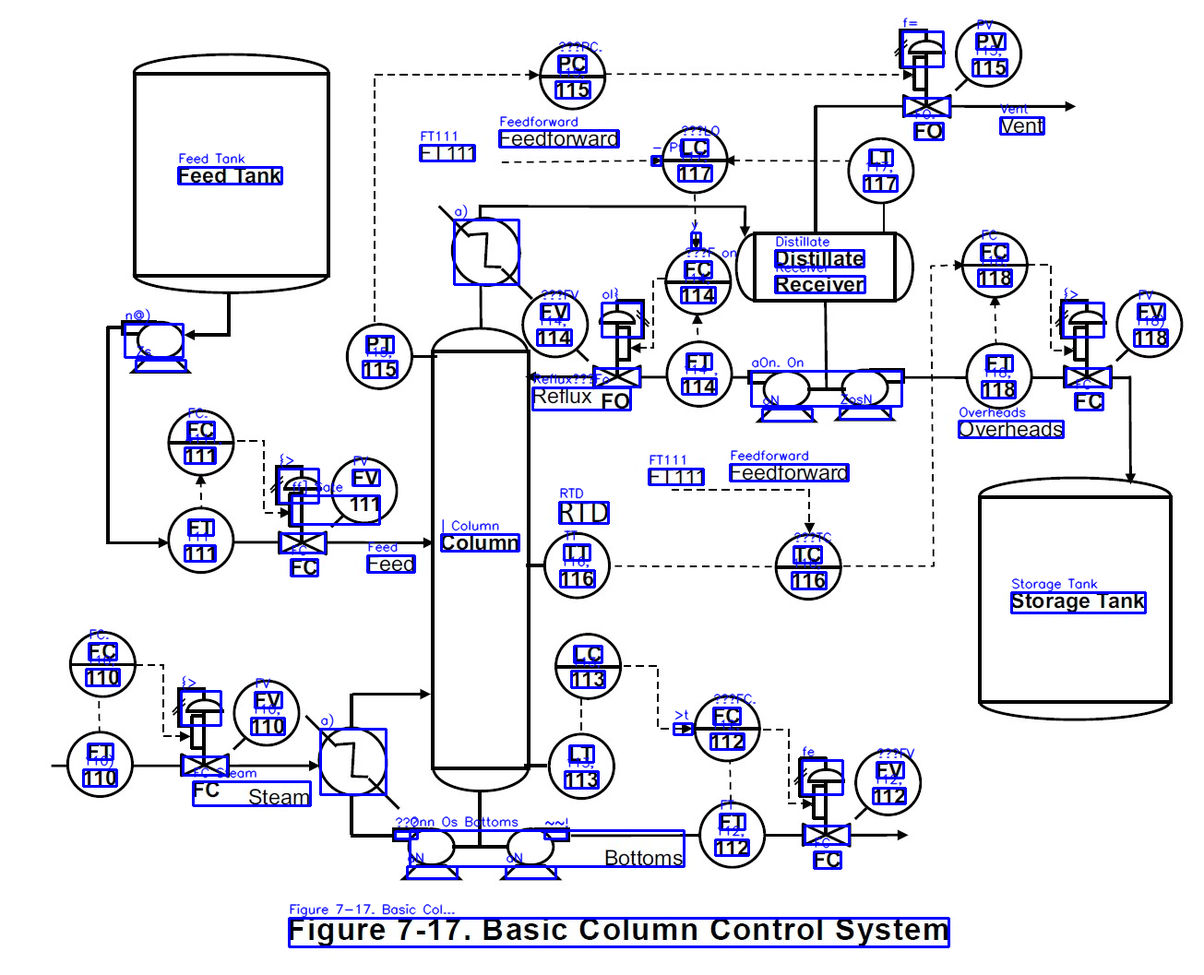Bomba: (828, 362, 912, 430), (492, 820, 576, 888), (115, 315, 199, 379), (386, 822, 468, 887), (741, 363, 825, 426)
Instrumento: (692, 796, 773, 876), (769, 529, 847, 604), (161, 504, 238, 577), (65, 626, 138, 702), (658, 244, 736, 315), (62, 727, 136, 801), (963, 339, 1036, 413), (341, 320, 416, 392), (540, 530, 613, 603), (657, 124, 731, 196), (544, 731, 620, 800), (163, 409, 235, 481), (662, 338, 734, 409), (537, 42, 611, 110), (960, 228, 1030, 298), (845, 133, 916, 202), (554, 630, 623, 699), (692, 695, 763, 761)
Tanque: (973, 473, 1180, 723), (128, 53, 331, 296), (430, 327, 530, 791)
TrocadordeCalor: (428, 195, 539, 303), (301, 705, 404, 818)
Vaso: (734, 226, 919, 309)
Válvula: (892, 15, 965, 124), (167, 675, 238, 784), (266, 458, 333, 567), (590, 290, 657, 393), (1051, 294, 1121, 391), (792, 749, 857, 851)
